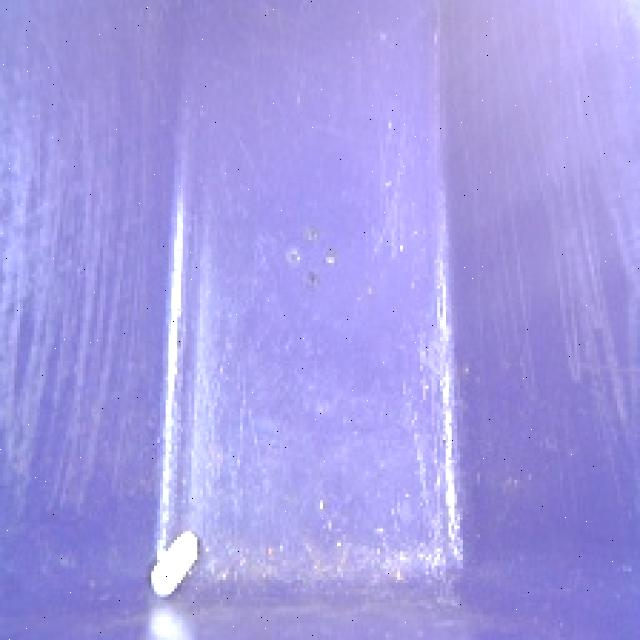small: (140, 525, 204, 600)
